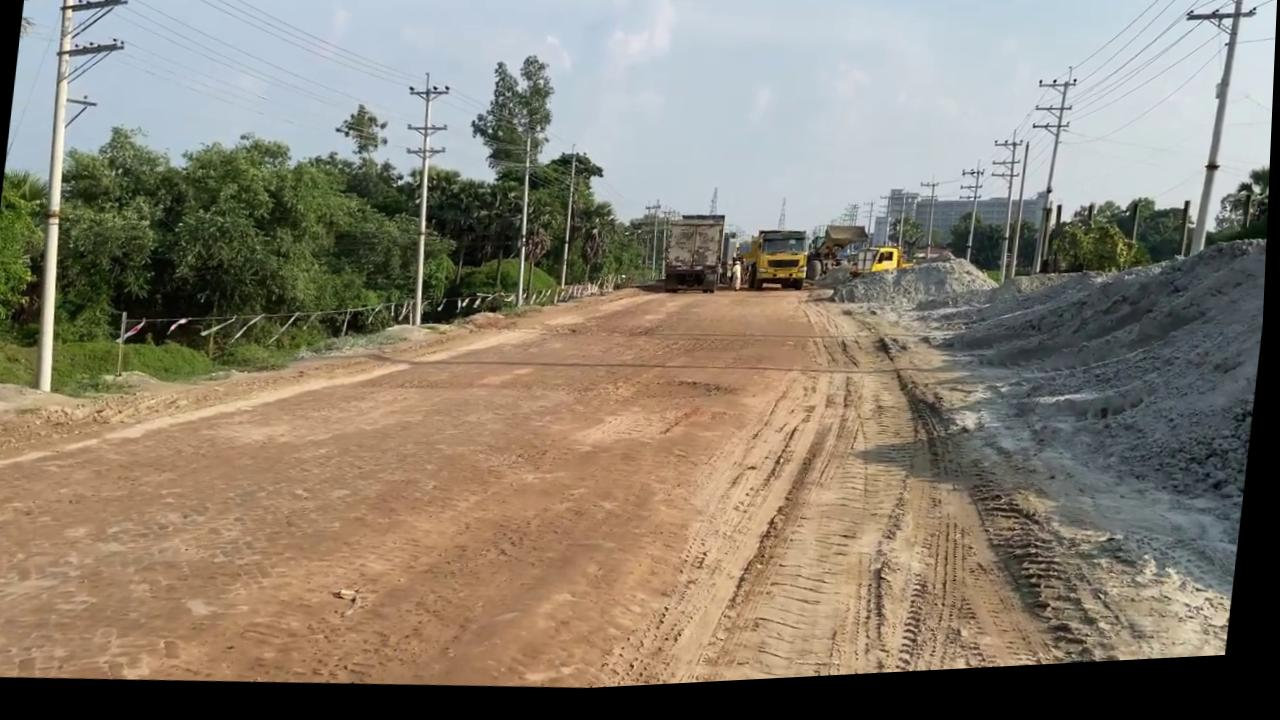Garbage: (795, 236, 1270, 687)
Muddy road: (0, 218, 1121, 720)
Pole: (16, 0, 98, 394), (1160, 0, 1262, 273), (384, 74, 455, 332), (509, 136, 543, 313), (557, 148, 584, 294)
Tree: (659, 217, 729, 303), (738, 233, 814, 302), (808, 230, 873, 292), (850, 250, 919, 291)
